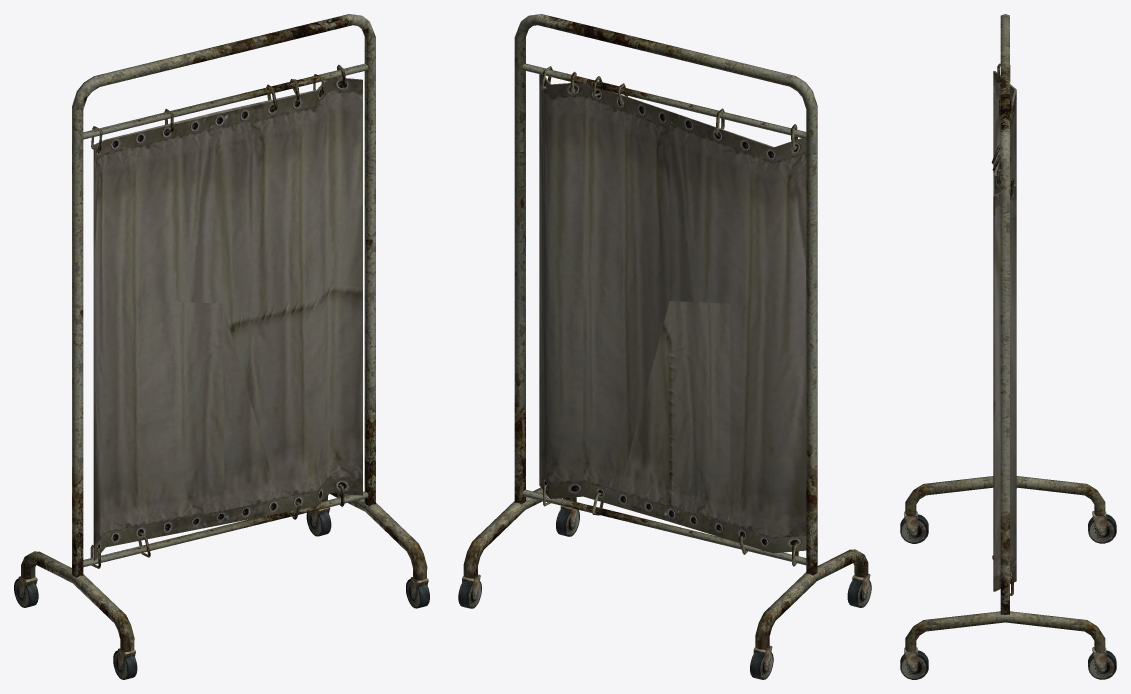
Rendered from screen01_obj_uni17_ag.obj.
The picture shows the model from 3 angles, left to right: view 1: azimuth 30°, elevation 25°; view 2: azimuth 150°, elevation 25°; view 3: azimuth 270°, elevation 25°; orthographic projection. The views are drawn at different scales.
Visible parts, largest first — view 1: screen01_obj_uni17_ag; view 2: screen01_obj_uni17_ag; view 3: screen01_obj_uni17_ag.
Part boxes in pixels (box(x1,y1,x2,y2)): screen01_obj_uni17_ag: box(14, 14, 429, 679); screen01_obj_uni17_ag: box(458, 14, 871, 679); screen01_obj_uni17_ag: box(900, 14, 1116, 679).
Size of the model in its own units: 124 by 218 by 79.73.
Materials: 1 (1 with a texture image).
